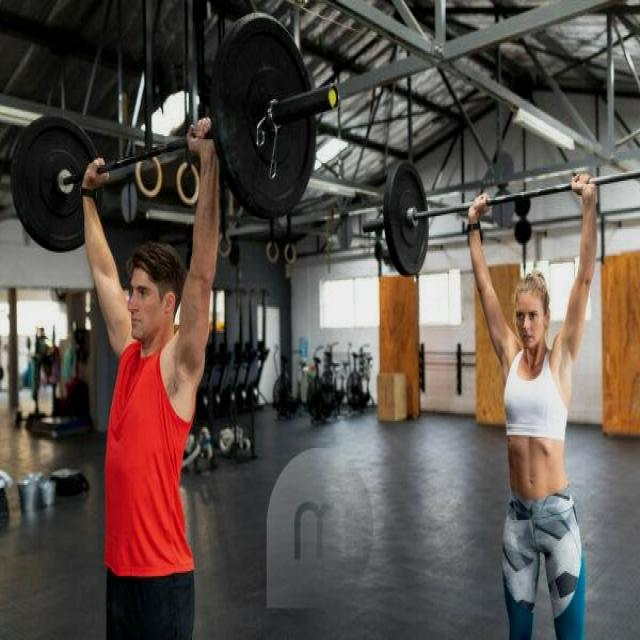barbell_plate_side: (8, 10, 90, 251), (256, 10, 338, 251), (364, 152, 433, 277), (571, 152, 640, 277)
